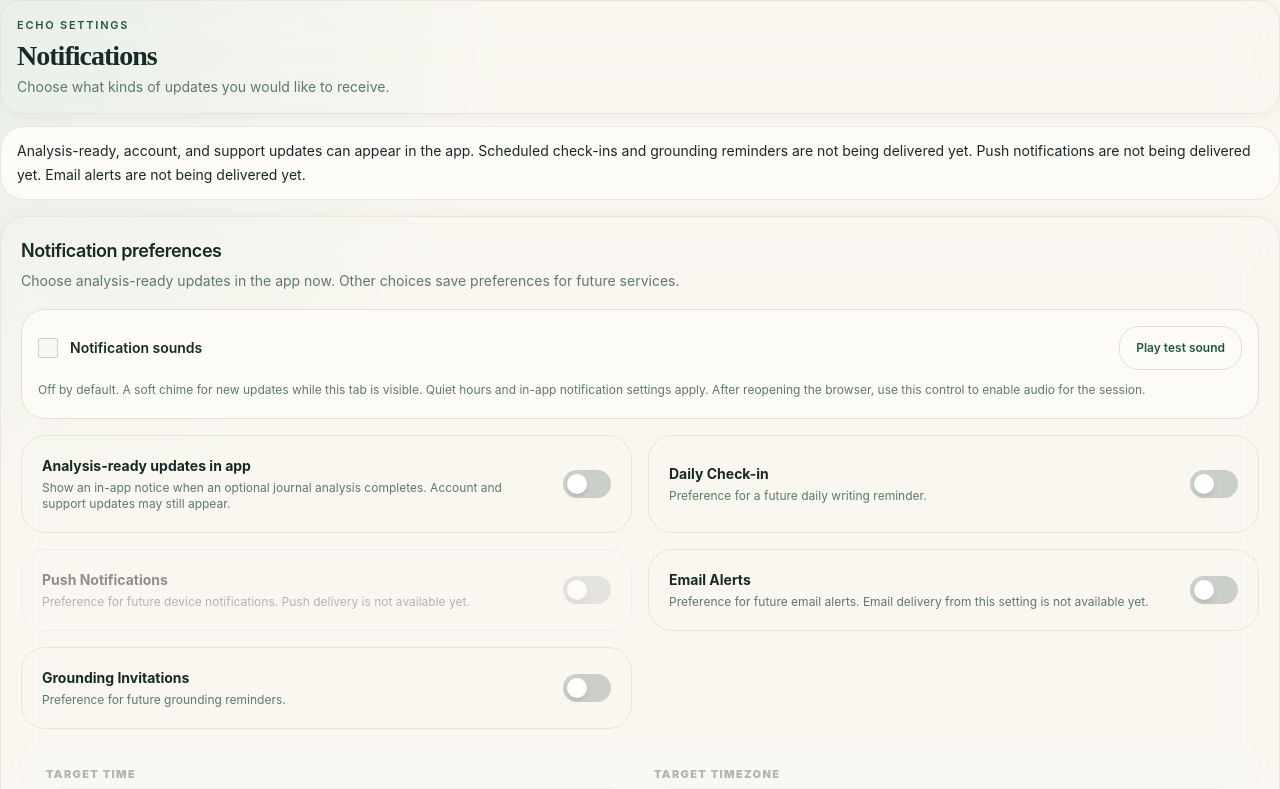
Scenario: settings actions › requires a timezone as well as a time when reminders are enabled
The width and height of the screenshot is (1280, 789).
Click the switch named "Daily Check-in". click: (1214, 484)
box: x1=1190 y1=470 x2=1238 y2=498
(page scrolled)
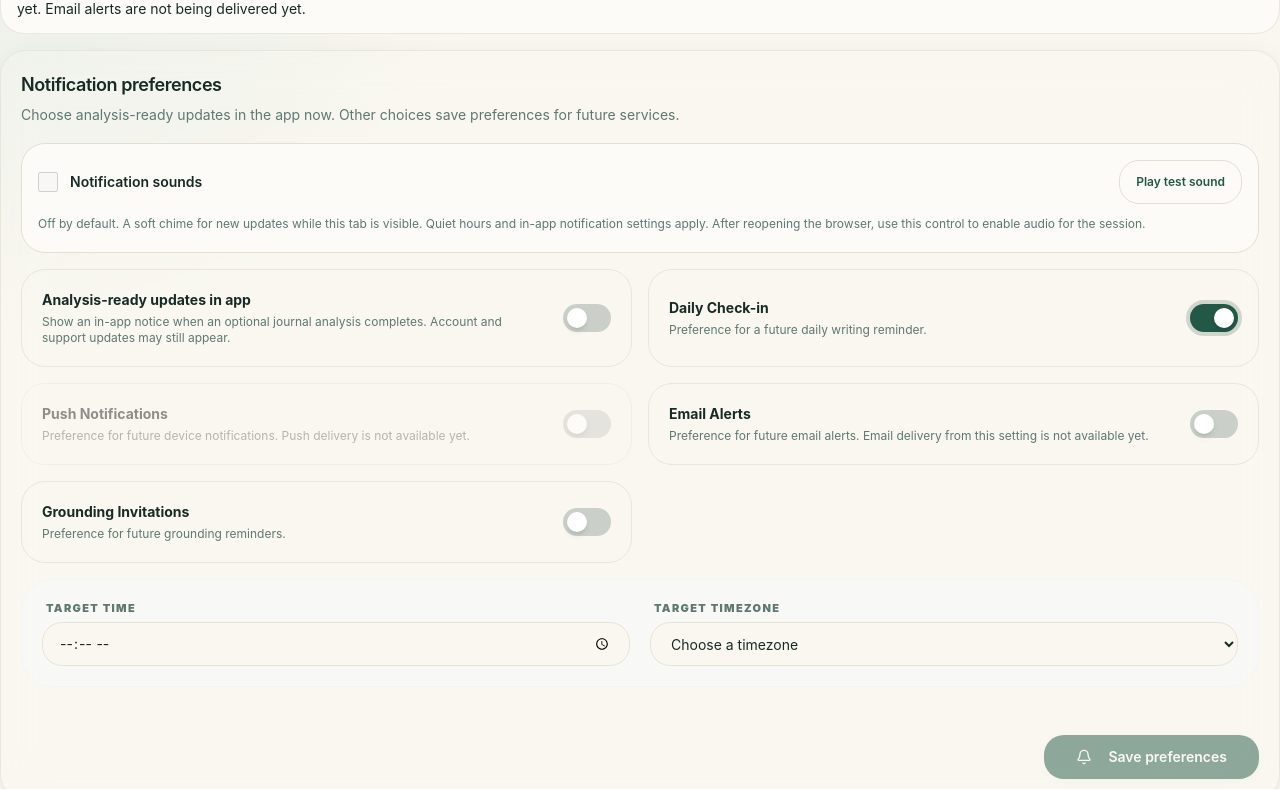
Expected: the dropdown labelled "Target Timezone" shows "Choose a timezone", x1=650 y1=622 x2=1238 y2=666
Result: the button "Save preferences" is disabled at x1=1044 y1=735 x2=1259 y2=779
Type "08:00" into the time field labelled "Target Time". click: (336, 644)
box: x1=42 y1=622 x2=630 y2=666
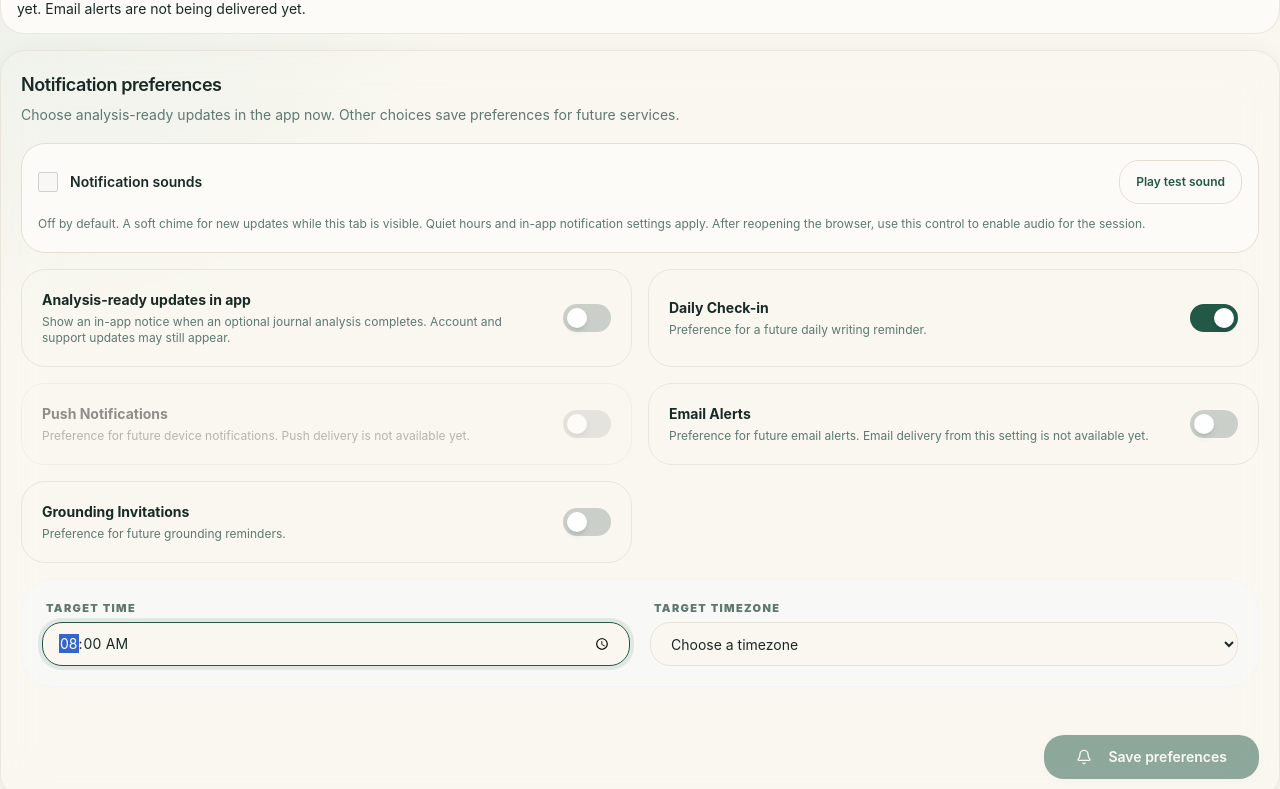
Result: the button "Save preferences" is disabled at x1=1044 y1=735 x2=1259 y2=779
Select "Asia/Manila" in the dropdown labelled "Target Timezone". click: (944, 644)
box: x1=650 y1=622 x2=1238 y2=666
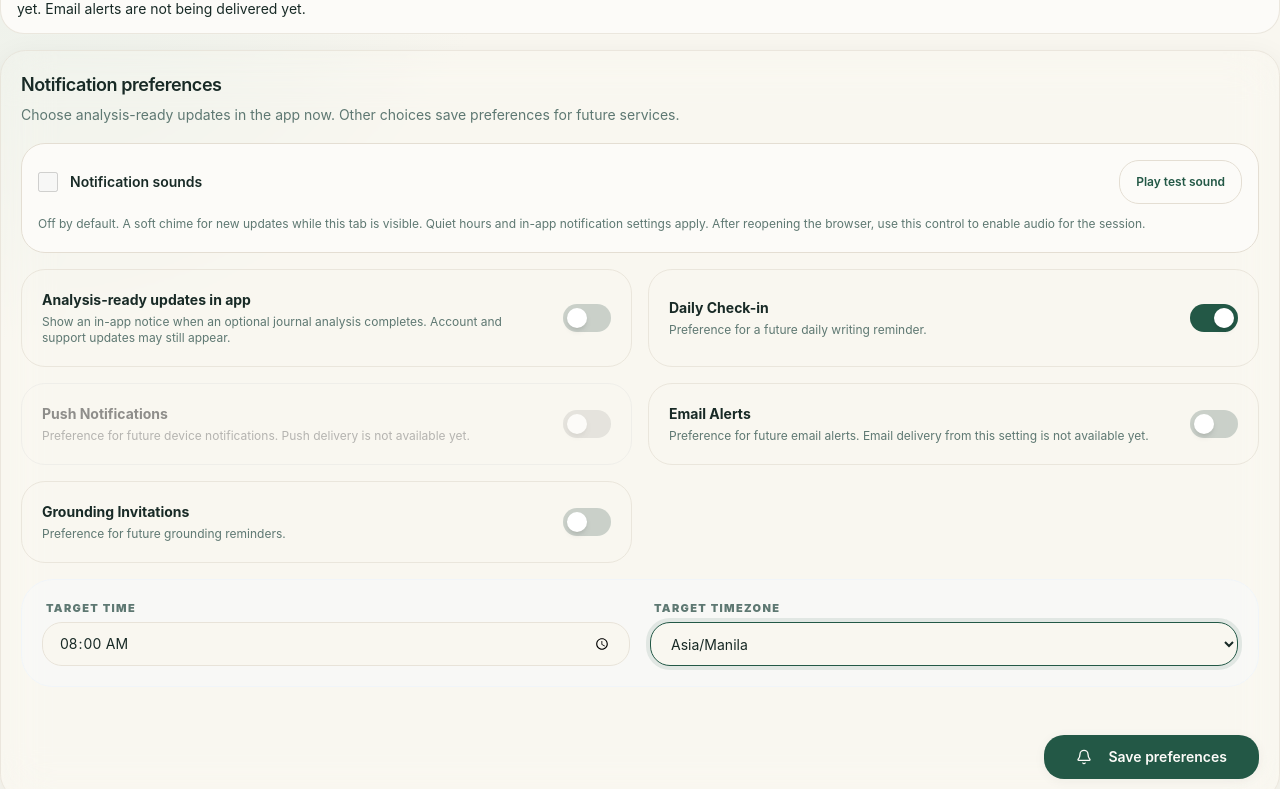
Result: the button "Save preferences" is enabled at x1=1044 y1=735 x2=1259 y2=779
